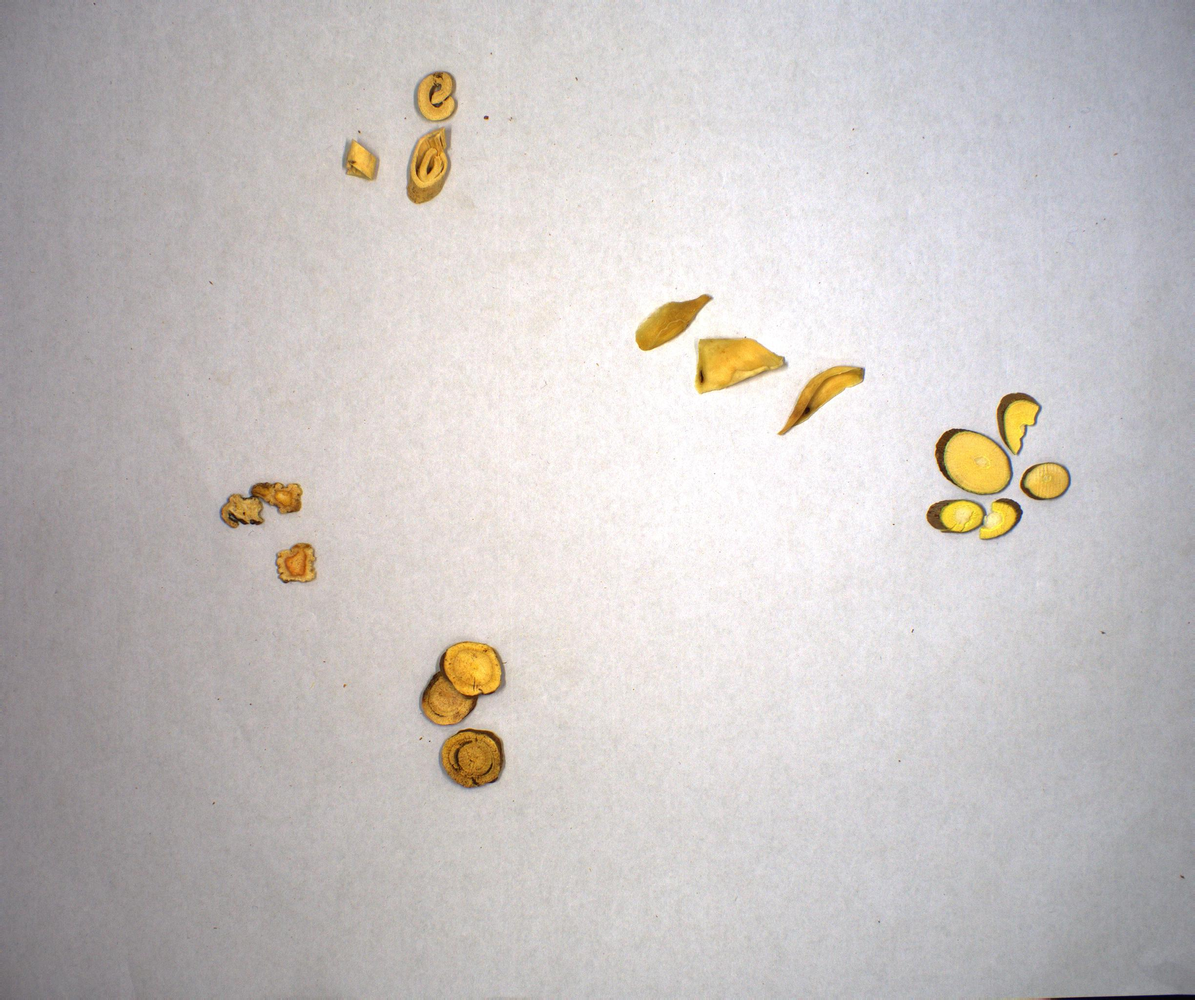baihe: (631, 284, 876, 451)
baixianpi: (319, 65, 486, 210)
gancao: (401, 631, 556, 812)
jiegeng: (210, 466, 337, 602)
sangzhi: (908, 389, 1095, 575)
